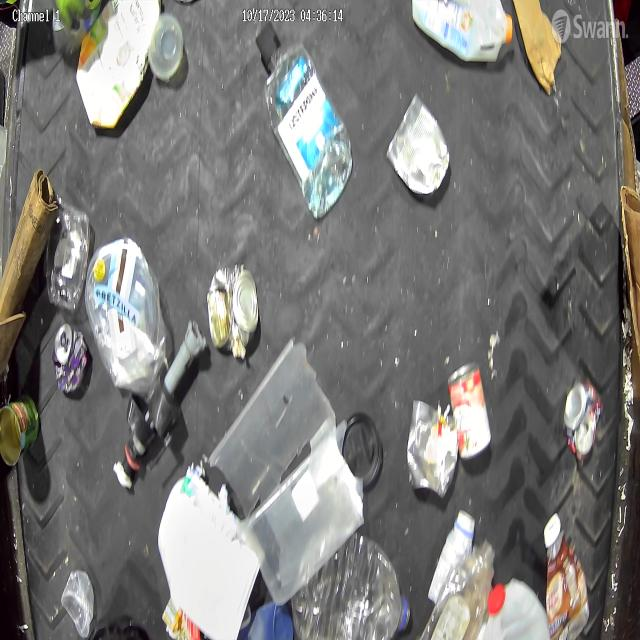can: (387, 94, 452, 196), (406, 398, 458, 502), (448, 358, 492, 462), (207, 264, 259, 352), (565, 378, 603, 463), (0, 395, 40, 468), (52, 324, 88, 396)
milk_jug: (76, 1, 161, 129), (413, 0, 514, 64), (476, 575, 556, 640)
plastic_bottle: (255, 20, 353, 219)
